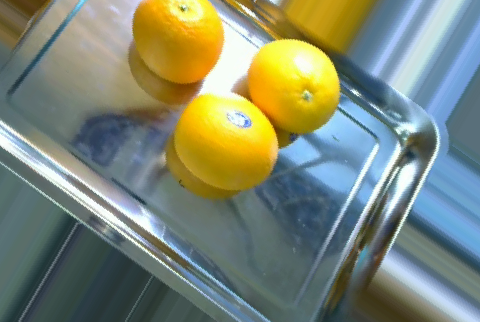Orange: (174, 90, 279, 189), (248, 38, 341, 133), (131, 1, 224, 84)
